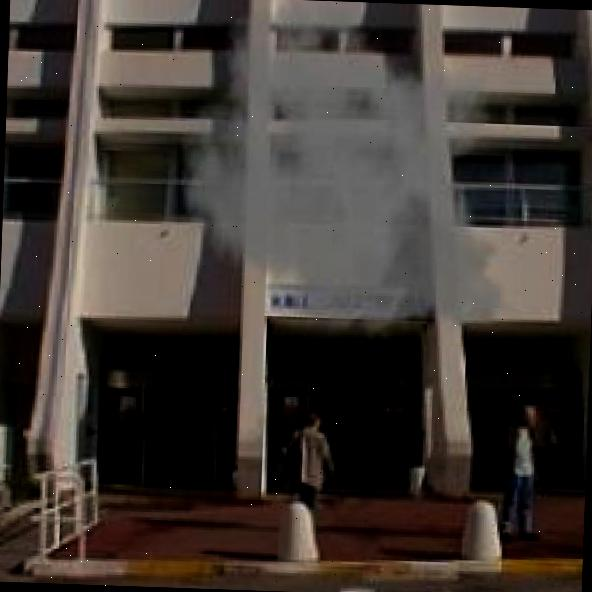smoke: (171, 0, 530, 350)
